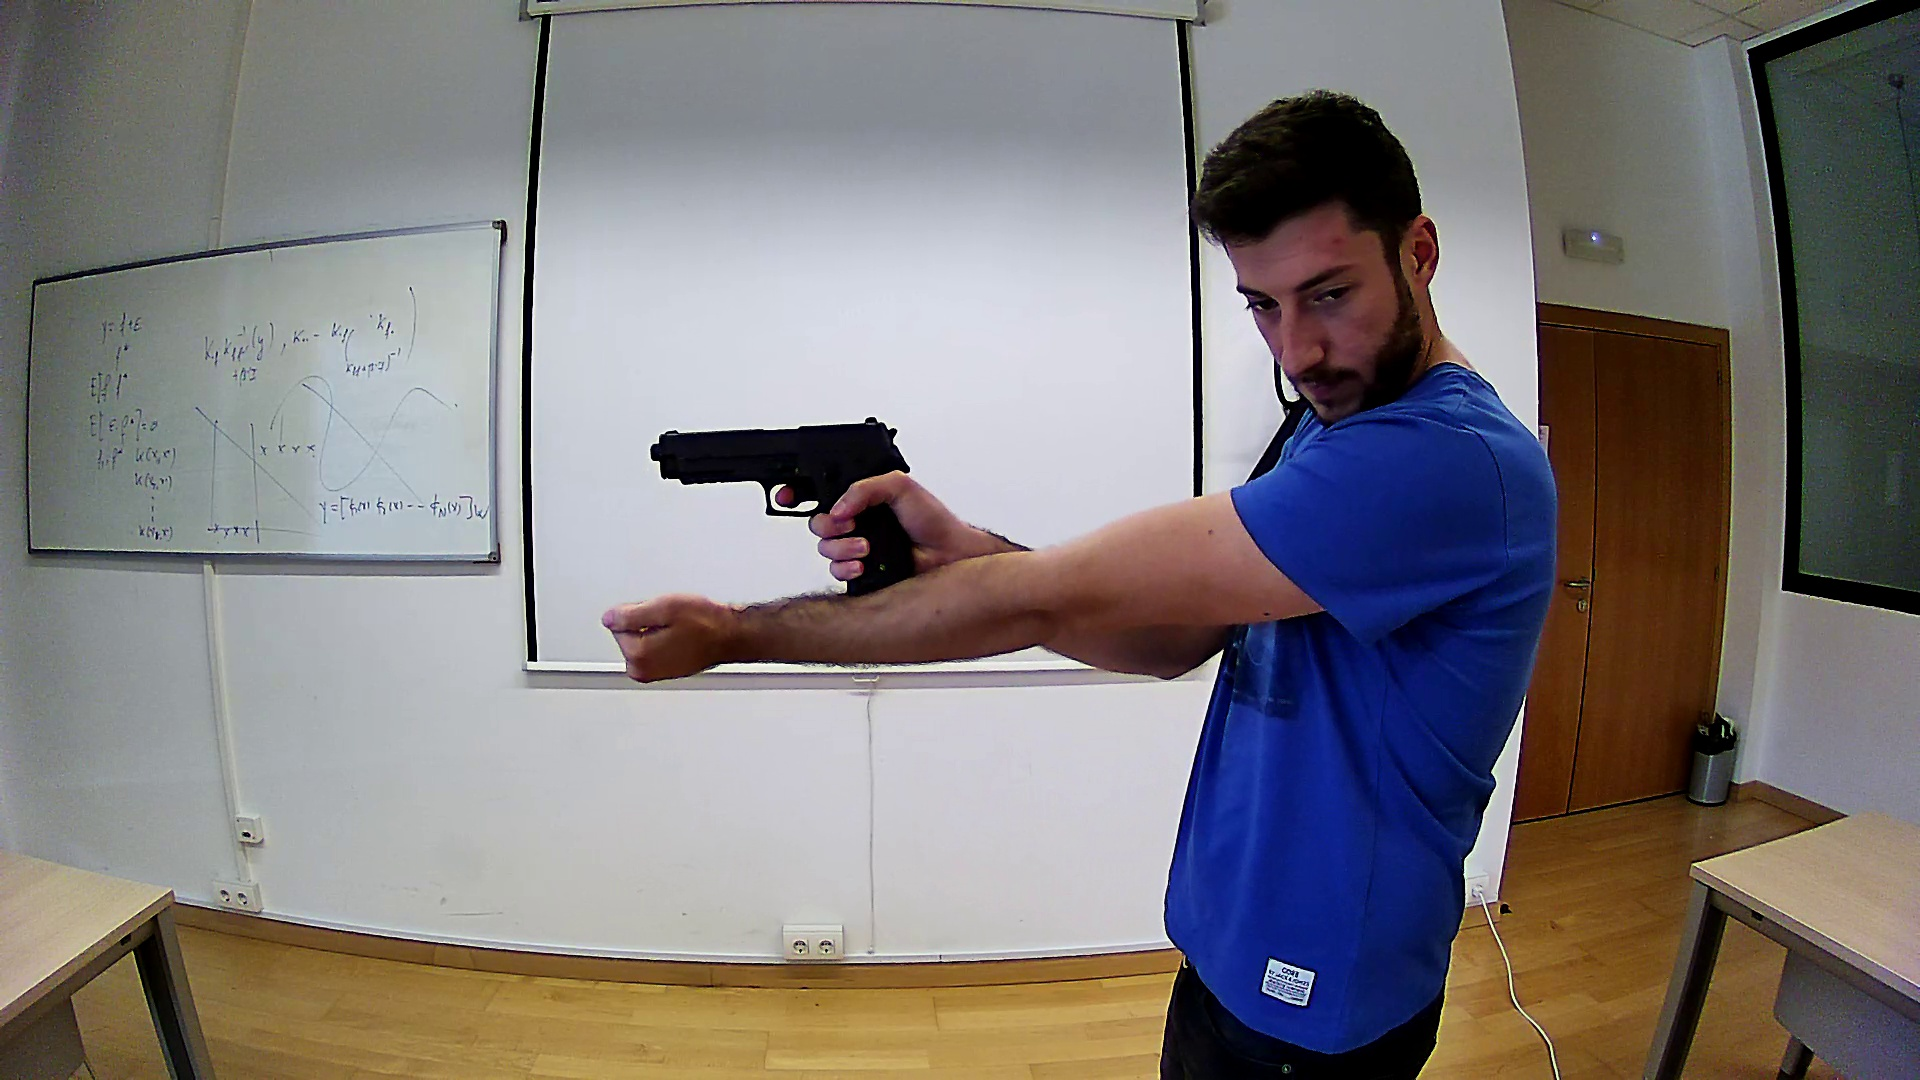pistol: (650, 415, 923, 597)
